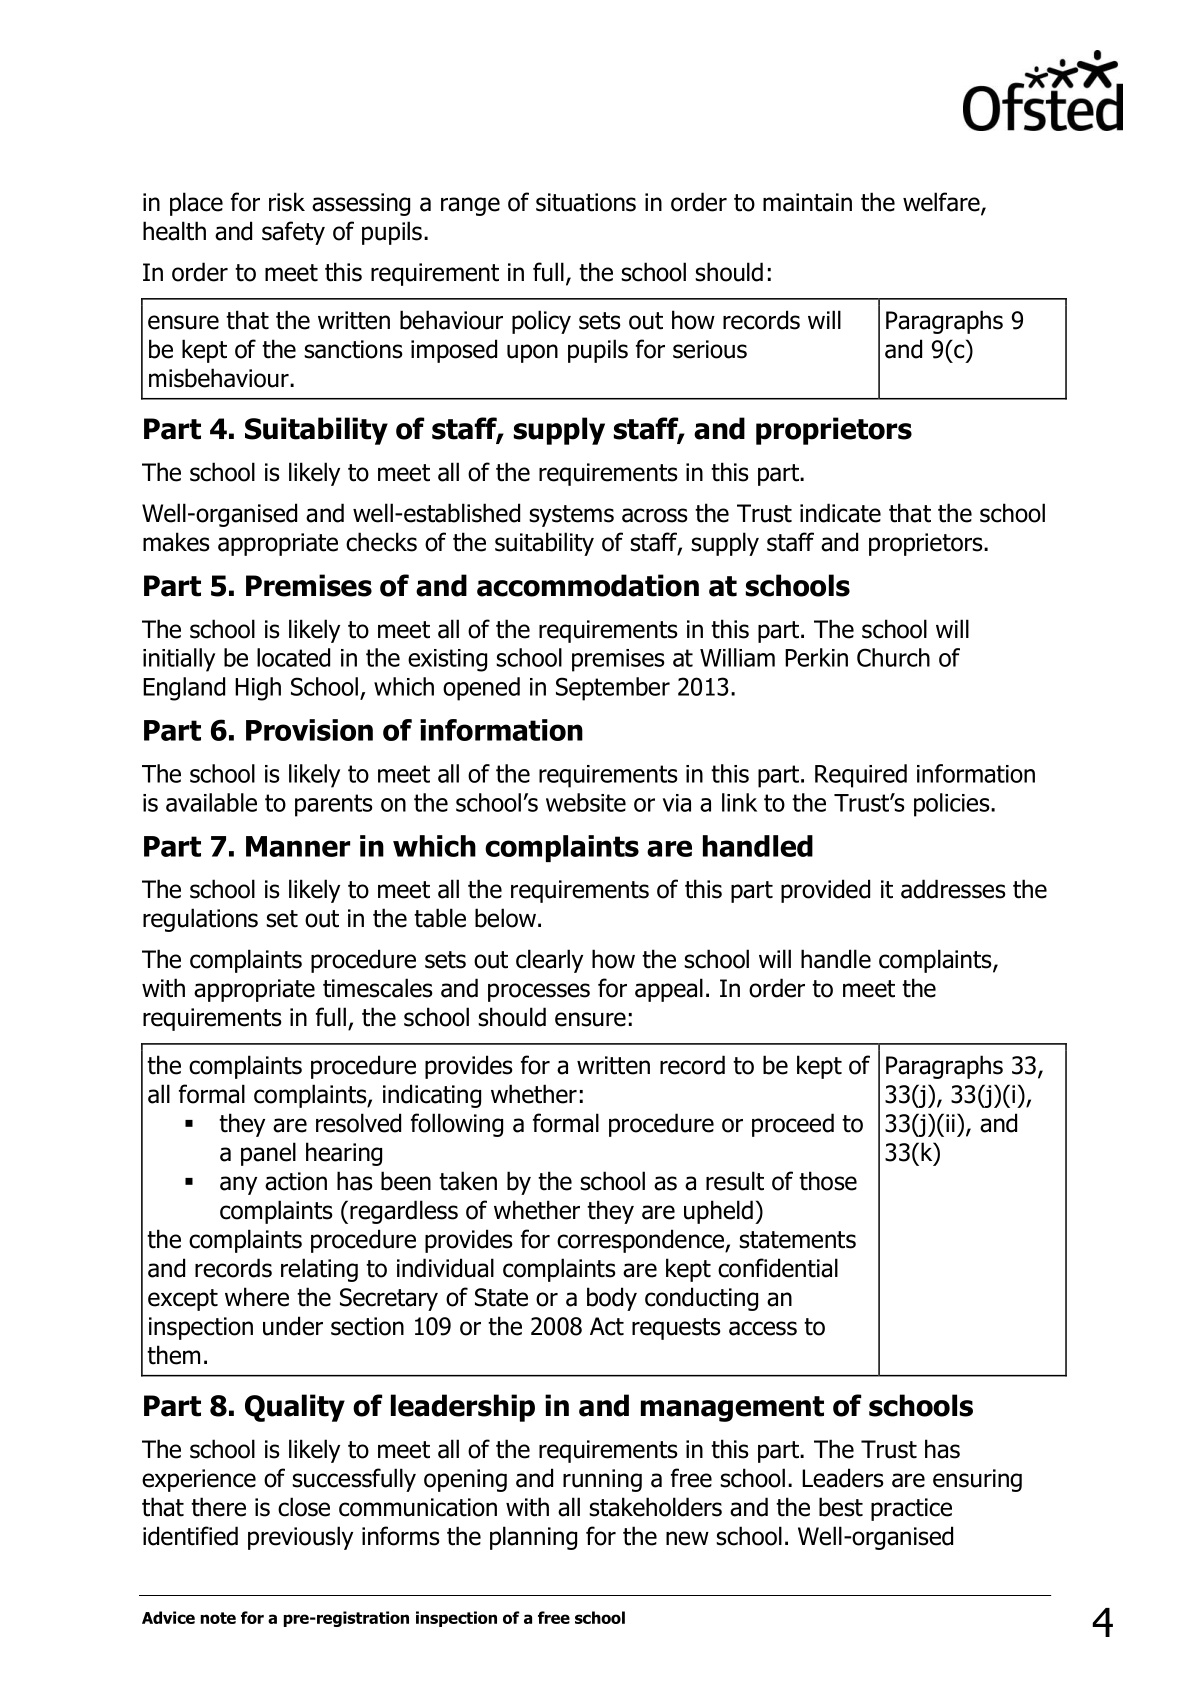full_lined: (140, 1042, 1066, 1378), (140, 297, 1068, 400)
